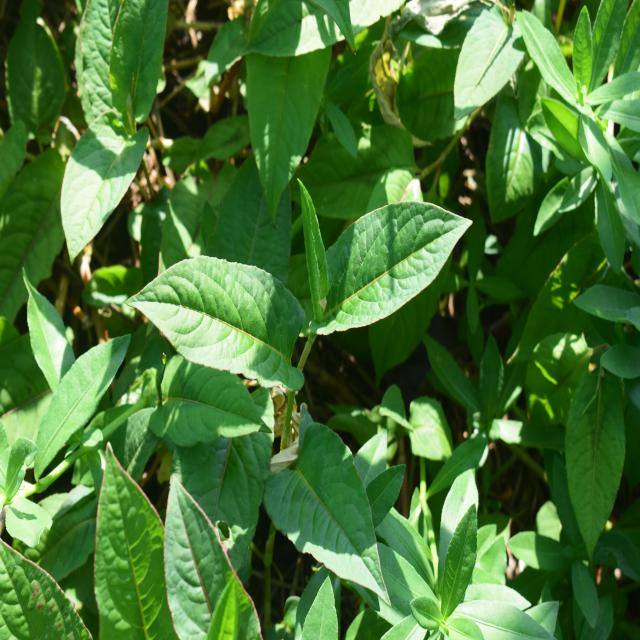Chinese_knotweed: (143, 168, 467, 587)
